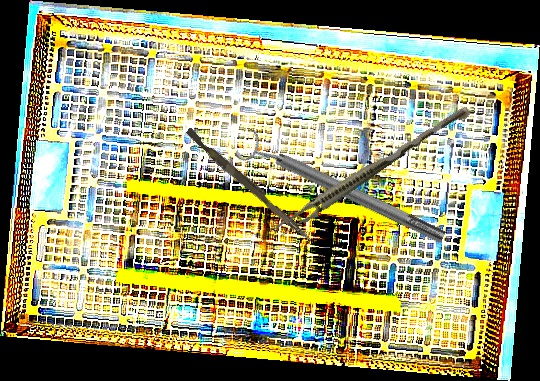Fixation Ring: (233, 124, 451, 256)
Pusher: (182, 127, 317, 243)
Tissue Forceps: (274, 98, 472, 241)
